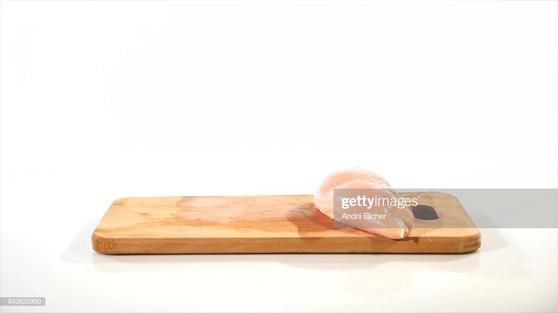chicken_fillet: (314, 161, 415, 247)
